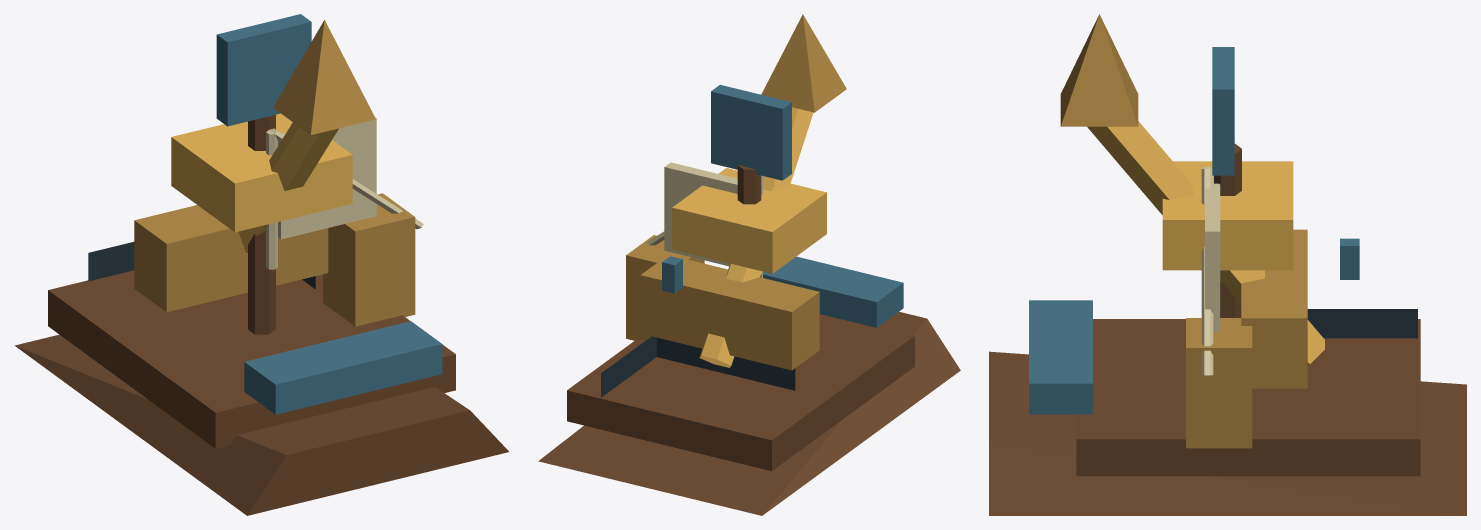
File: naval-siege-ship.obj
The picture shows the model from 3 angles, left to right: view 1: azimuth 30°, elevation 25°; view 2: azimuth 150°, elevation 25°; view 3: azimuth 270°, elevation 25°; orthographic projection. The views are drawn at different scales.
Parts seen in each view (by area): view 1: ship; view 2: ship; view 3: ship.
Boxes of the visible parts, x1,y1,x2,y2 form: ship: [14, 14, 508, 515]; ship: [538, 14, 960, 515]; ship: [989, 14, 1466, 515].
Size of the model in its own units: 1.51 by 2.17 by 2.16.
